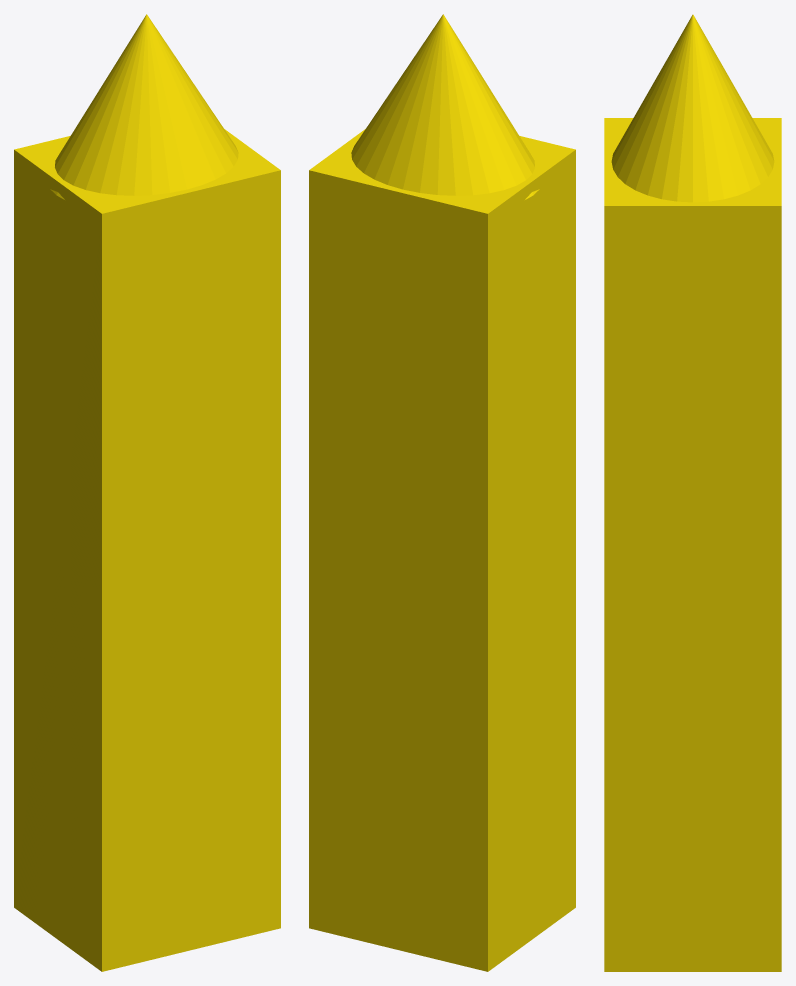
The picture shows the model from 3 angles, left to right: view 1: azimuth 30°, elevation 25°; view 2: azimuth 150°, elevation 25°; view 3: azimuth 270°, elevation 25°; orthographic projection.
Parts seen in each view (by area): view 1: Cube.001, Cone; view 2: Cube.001, Cone; view 3: Cube.001, Cone.
Part boxes in pixels (x1,y1,x2,y2): Cube.001: (14,129,280,971); Cone: (50,14,238,199); Cube.001: (309,129,575,971); Cone: (351,14,539,199); Cube.001: (604,118,781,971); Cone: (611,14,774,202).
Size of the model in its own units: 2.37 by 11.35 by 2.
